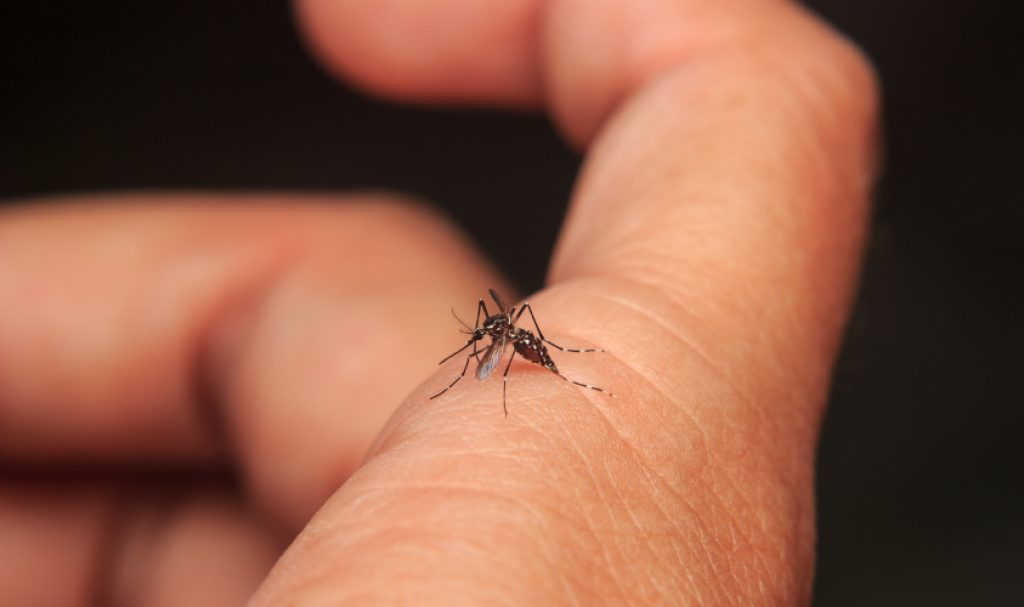dengue_mosquito: (431, 290, 614, 418)
